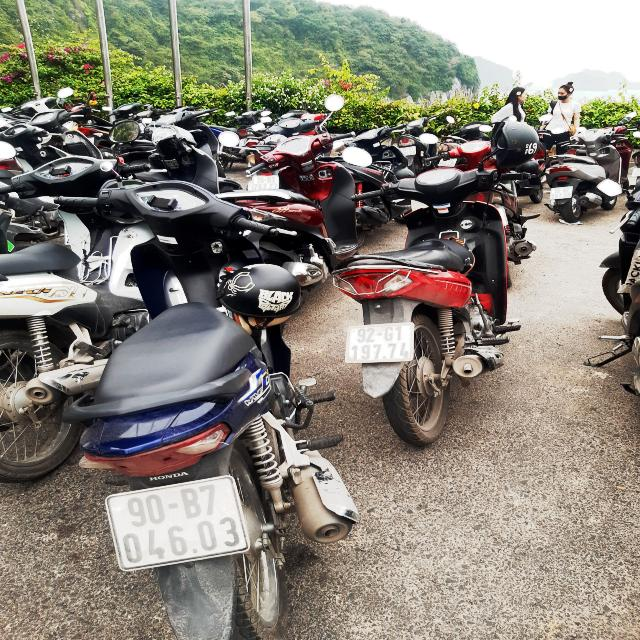license_plate: (105, 476, 253, 575), (346, 324, 415, 365)
